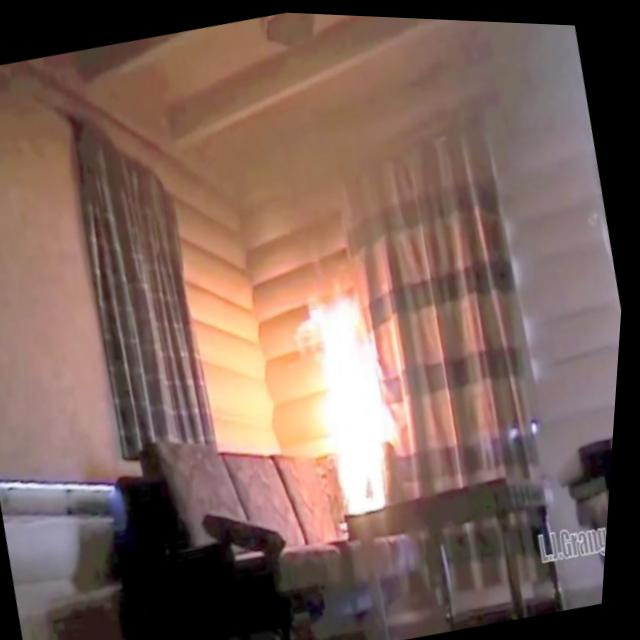fire: (278, 273, 443, 542)
